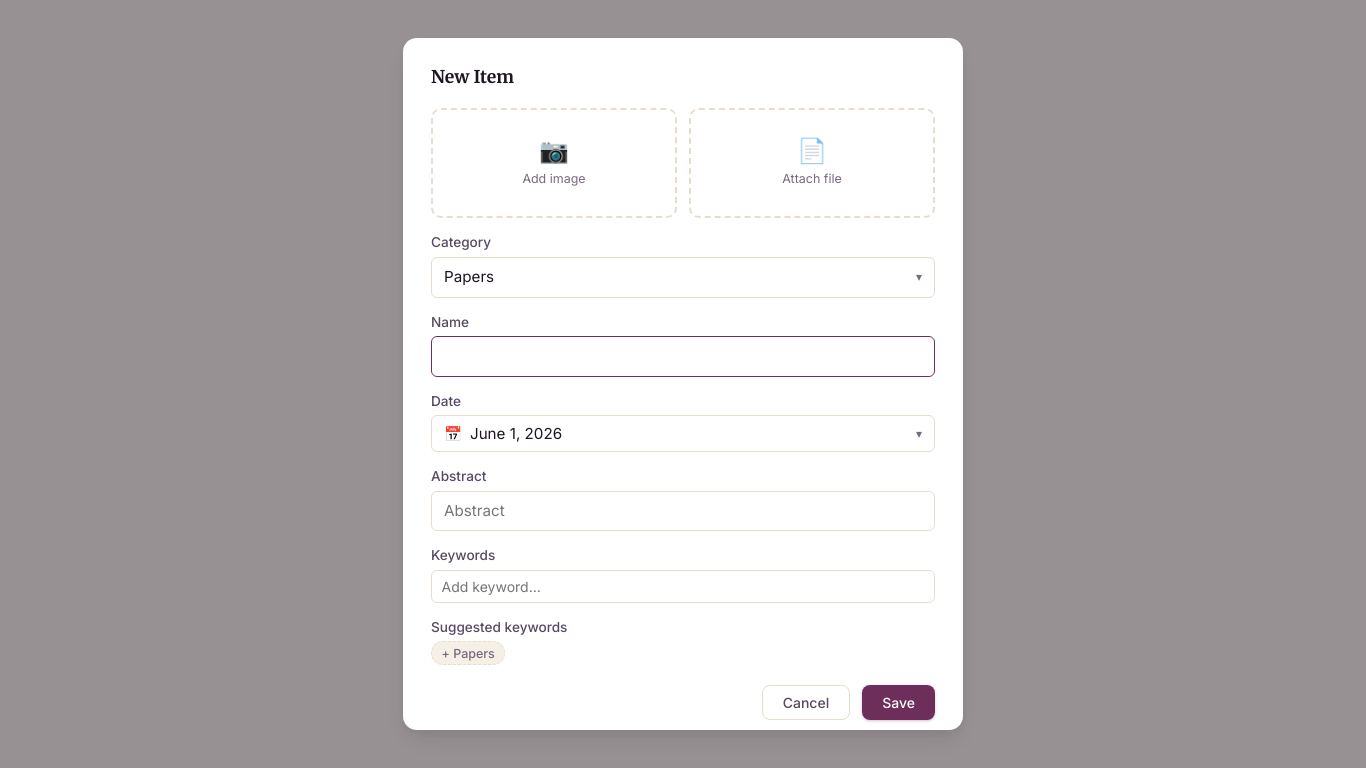
Test: changing category resets dynamic field values
Type "text" into the field with placeholder "Abstract".
click(683, 511); type("text")  # box [431,490,935,531]
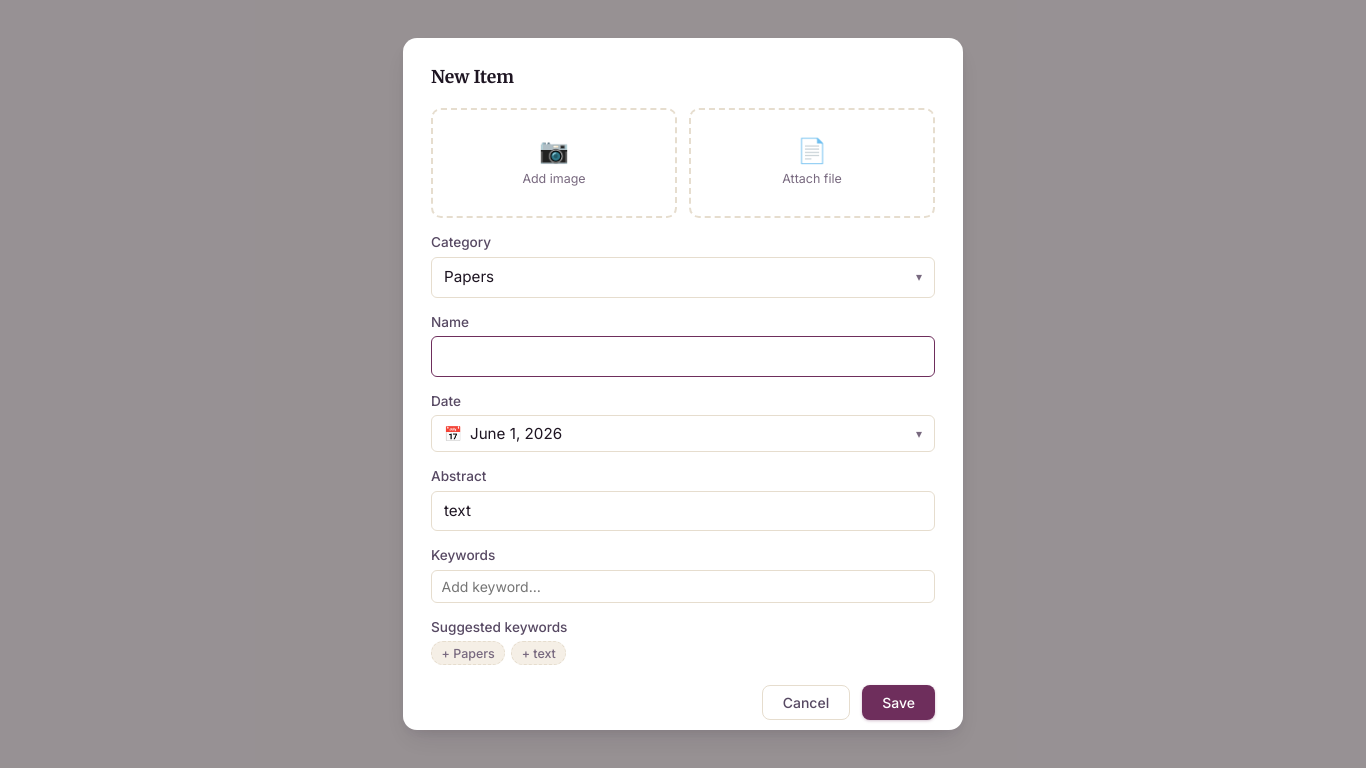
Click the text "Papers".
click(469, 277)  # box [444,266,494,289]
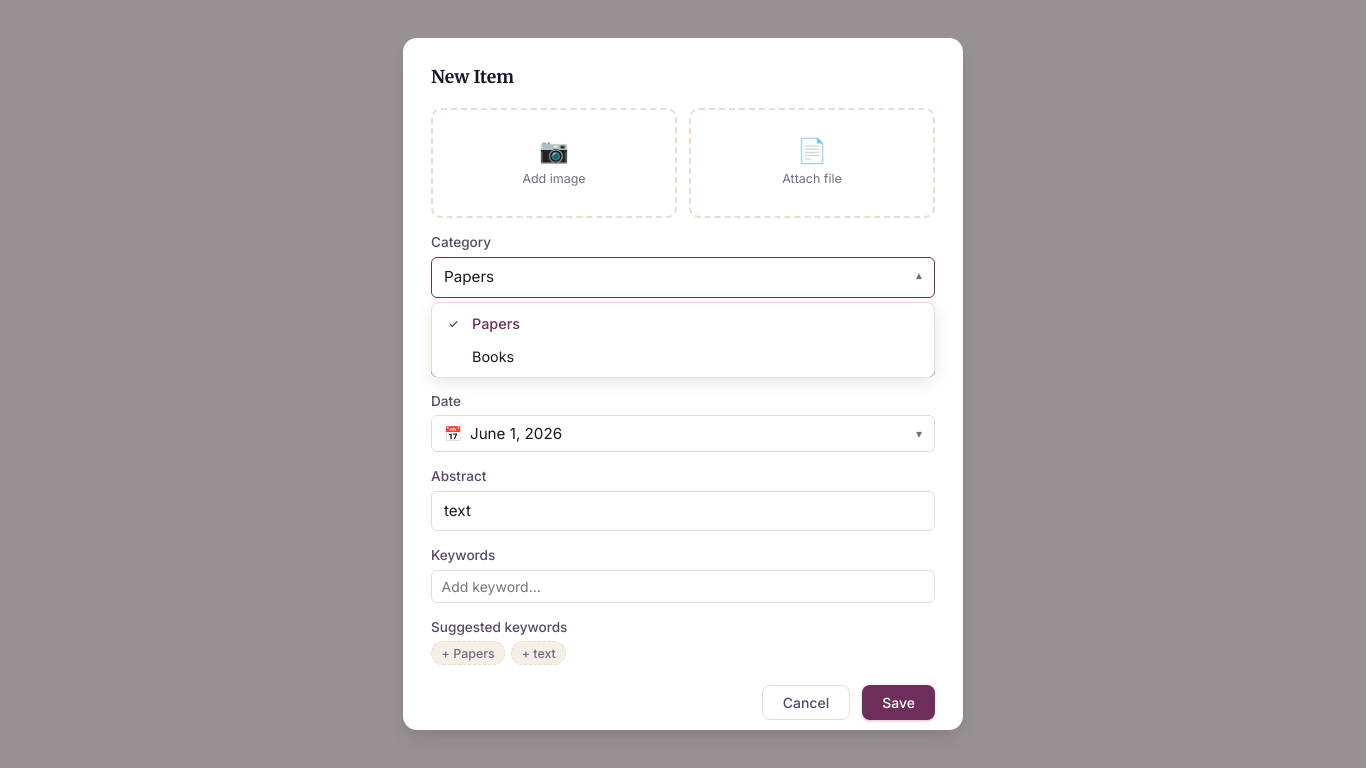
Click the button "Books".
click(493, 356)  # box [436,340,930,373]
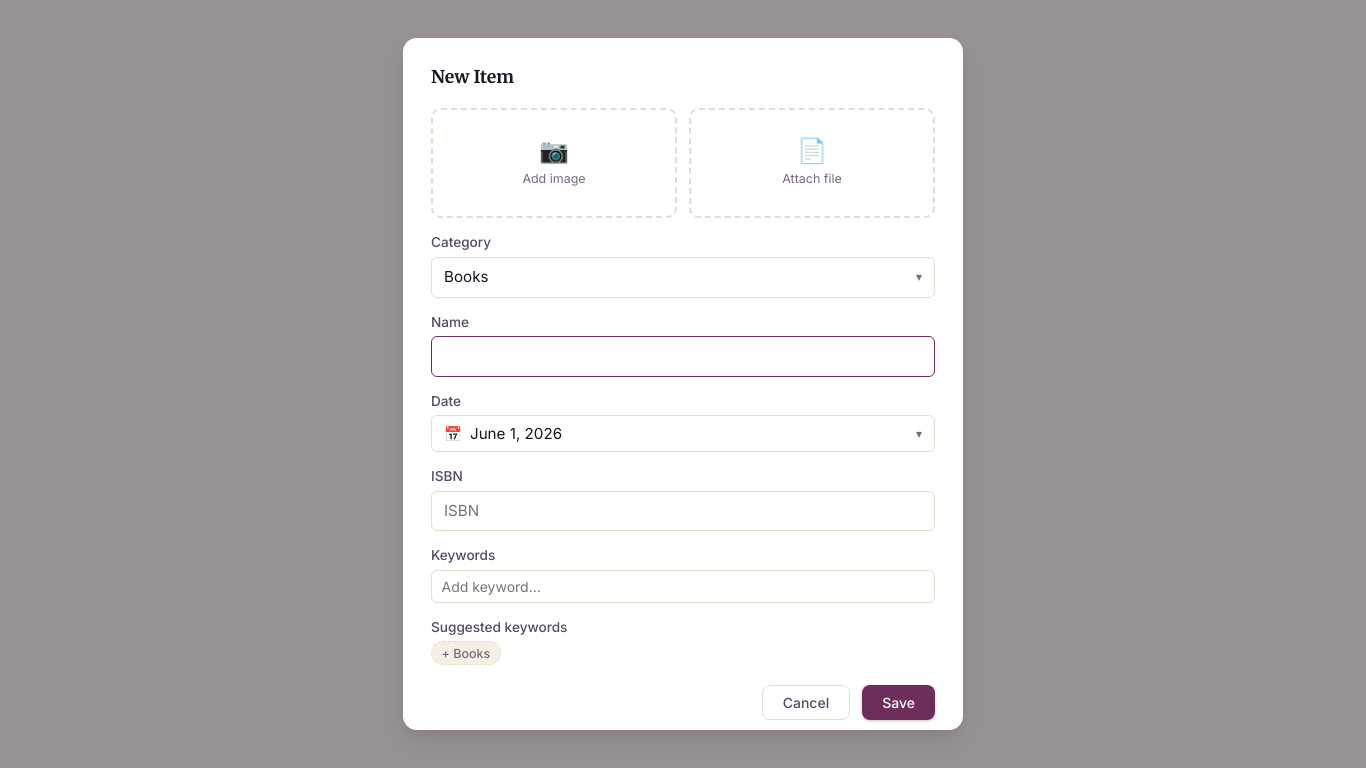
Expected: the field with placeholder "ISBN" is shown, [431,490,935,531]
Expected: the label with placeholder "Abstract" is gone
